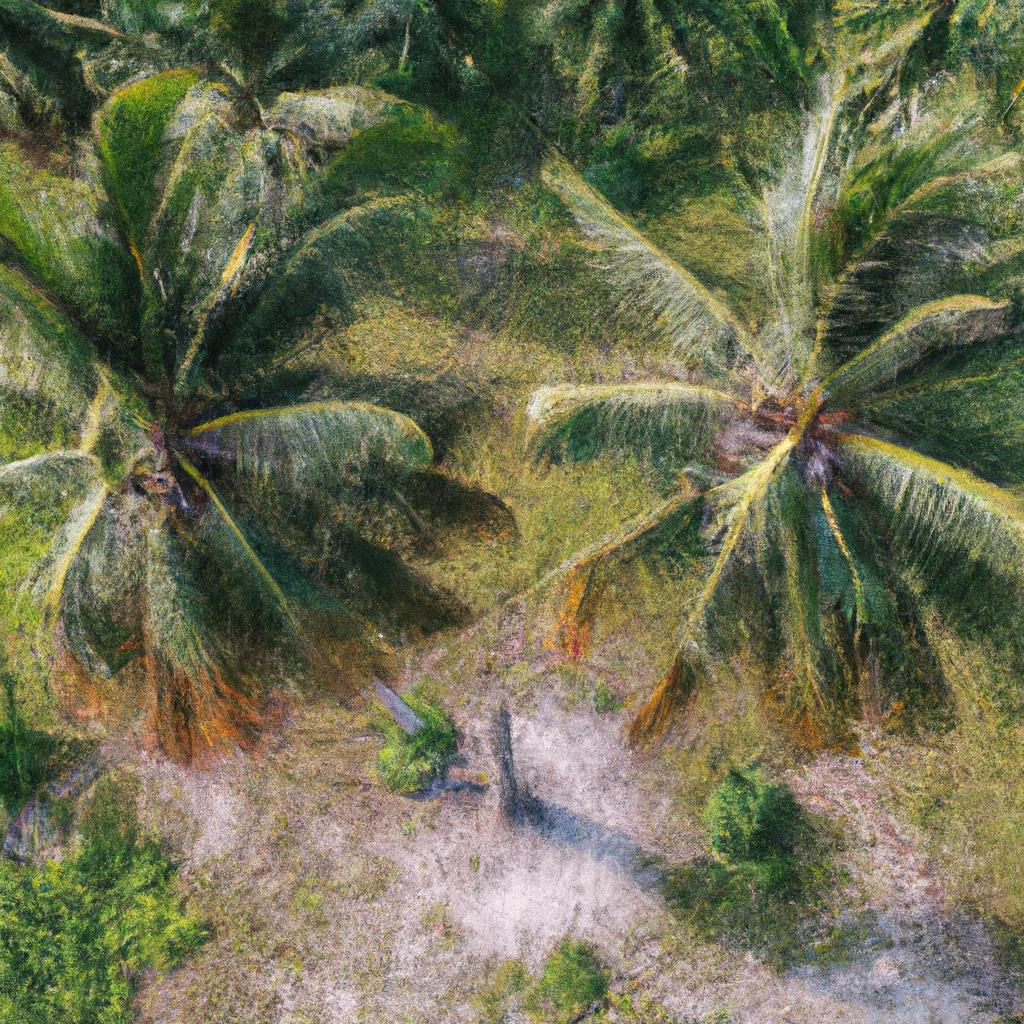coconut_tree: (0, 37, 500, 794), (522, 75, 1023, 778)
